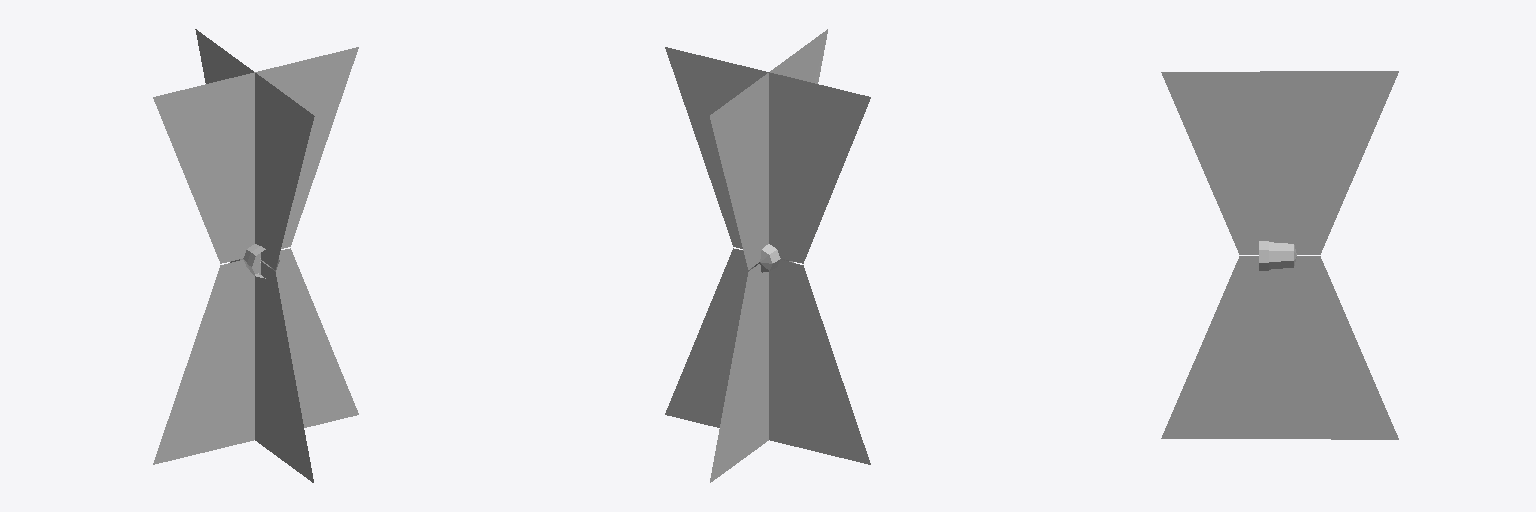
Rendered from stg400_MotRotlightA_m2_13.obj.
3 renders of one model, left to right at view 1: azimuth 30°, elevation 25°; view 2: azimuth 150°, elevation 25°; view 3: azimuth 270°, elevation 25°, orthographic.
Parts seen in each view (by area): view 1: polygon4; view 2: polygon4; view 3: polygon4, polygon1.
Part boxes in pixels (left/top/right/bottom): polygon4: left=153, top=29, right=358, bottom=482; polygon4: left=665, top=29, right=870, bottom=482; polygon4: left=1161, top=71, right=1398, bottom=439; polygon1: left=1269, top=242, right=1296, bottom=269.
Bounding box in the file's own units: 63.89 × 109 × 63.89.